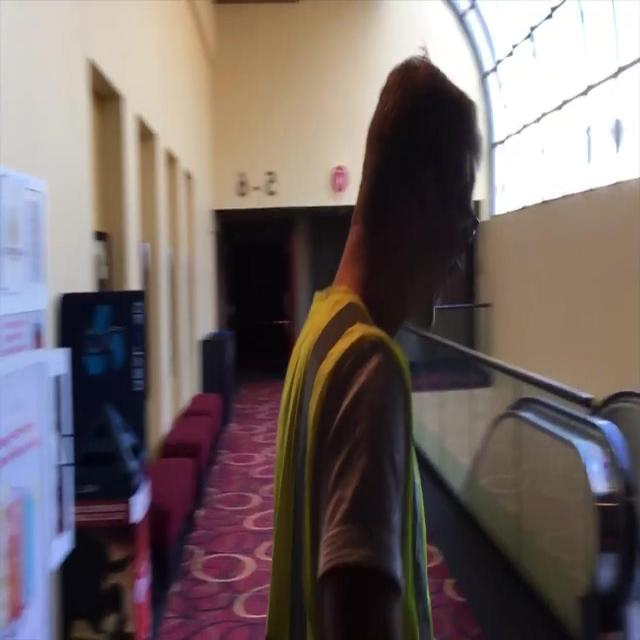Reflective-Jacket: (265, 275, 434, 640)
